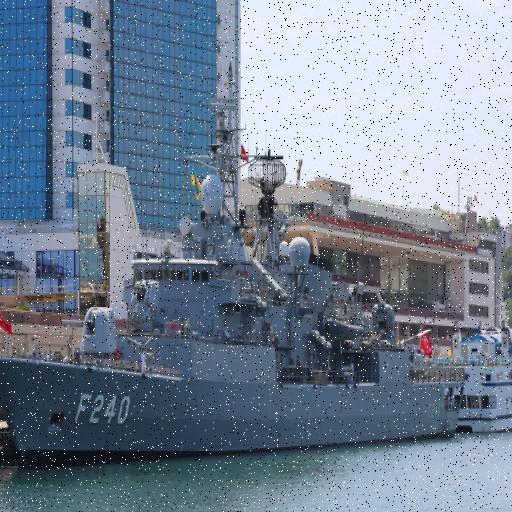Fragata: (1, 61, 472, 480)
